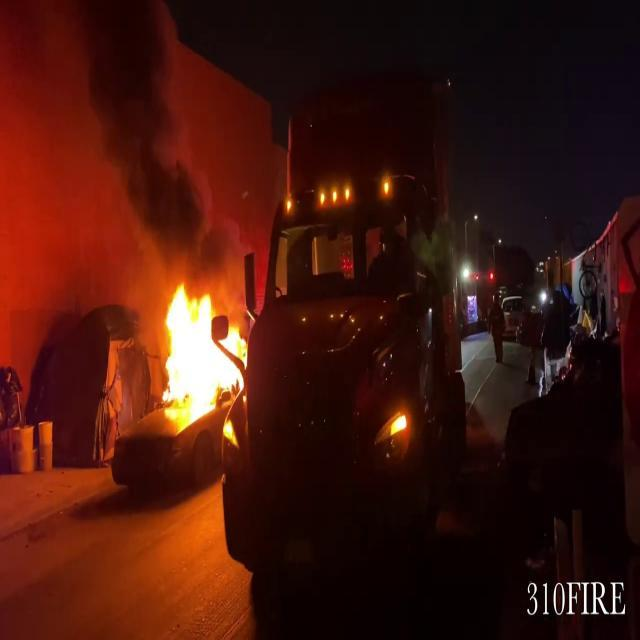Fire: (154, 279, 251, 429), (386, 403, 410, 445)
Smoke: (0, 1, 206, 312)
